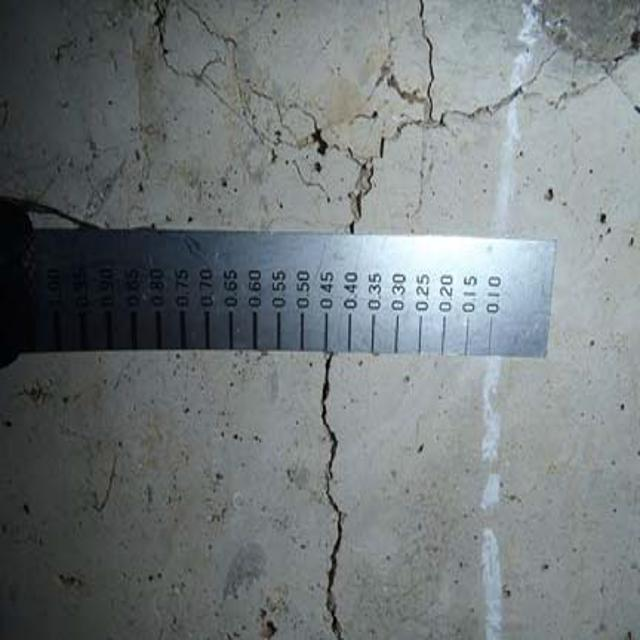crack: (140, 7, 640, 227), (293, 354, 371, 640)
